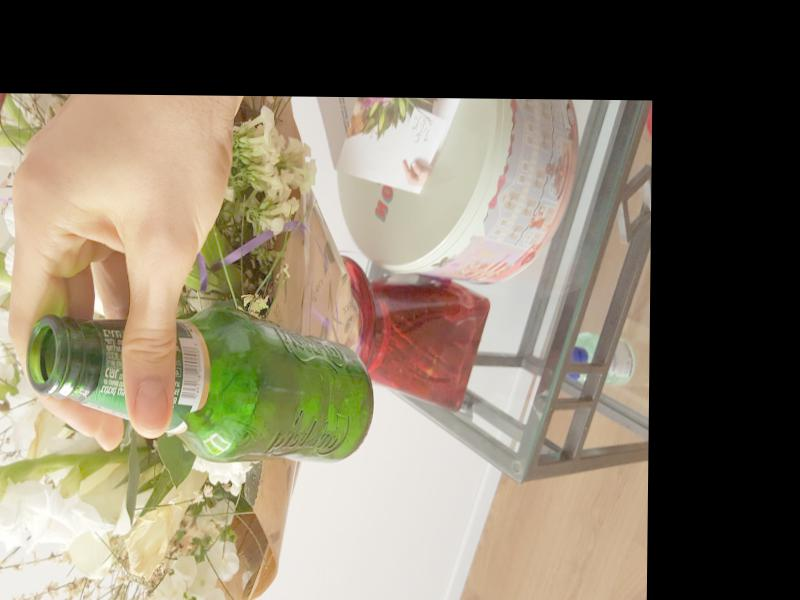Beer: (28, 306, 376, 465)
